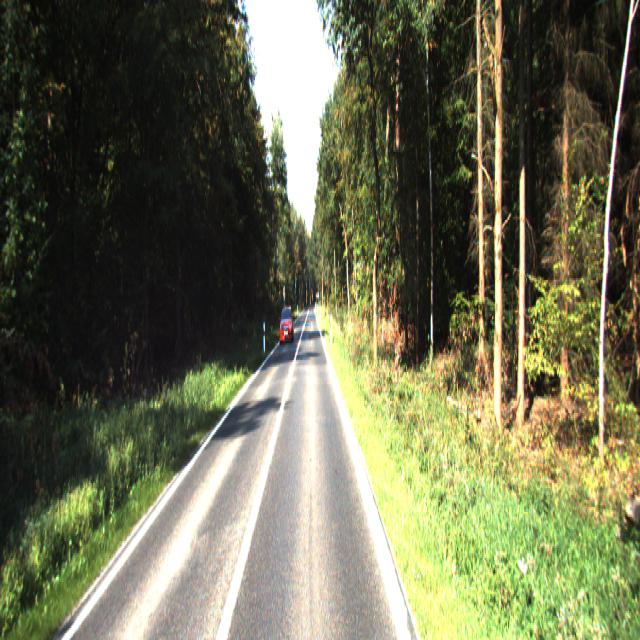Car: (279, 306, 294, 344)
